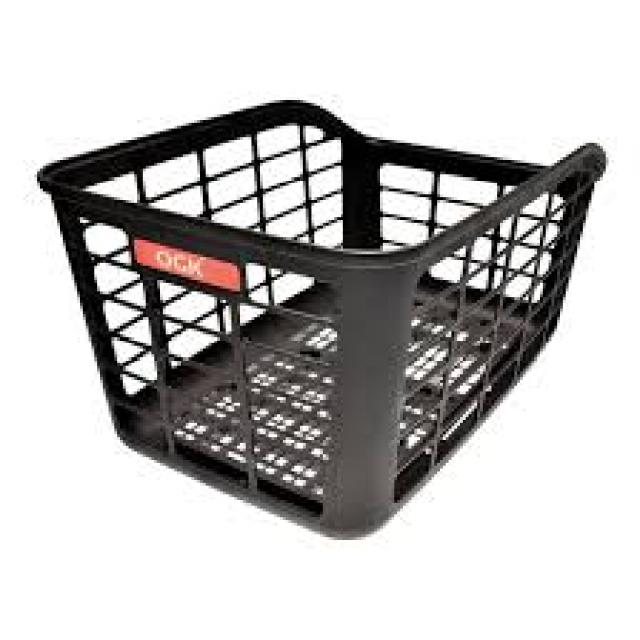basket: (37, 99, 607, 541)
